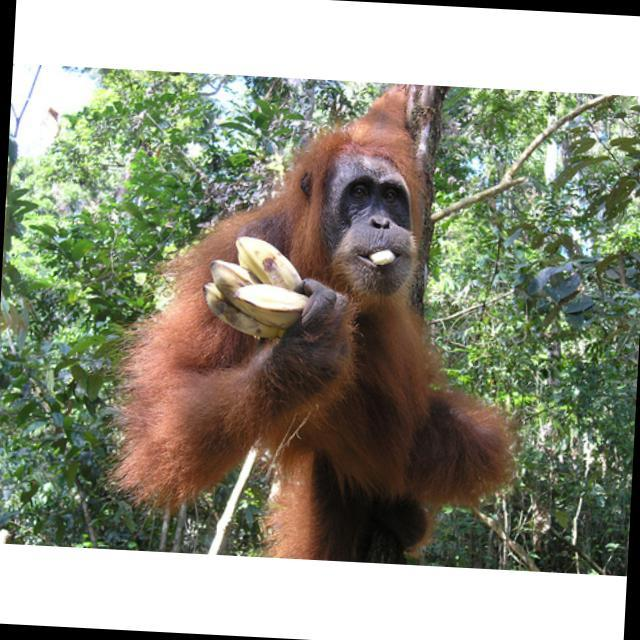Orangutan: (101, 120, 519, 556)
